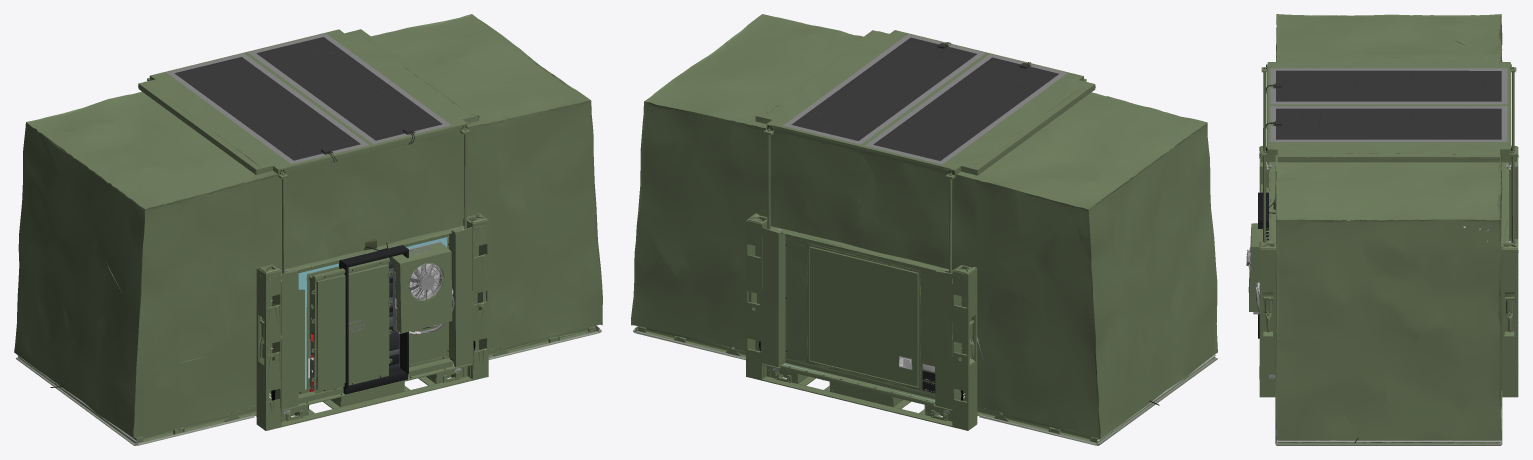
Rendered from trecc-open-fitted.glb.
The picture shows the model from 3 angles, left to right: view 1: azimuth 30°, elevation 25°; view 2: azimuth 150°, elevation 25°; view 3: azimuth 270°, elevation 25°; orthographic projection. The views are drawn at different scales.
Parts seen in each view (by area): view 1: Solid4340, TRECC_fitout; view 2: Solid4340; view 3: Solid4340, TRECC_fitout.
Part boxes in pixels (x1,y1,x2,y2): Solid4340: (14,14,602,445); TRECC_fitout: (50,239,408,394); Solid4340: (631,14,1217,445); Solid4340: (1246,14,1518,445); TRECC_fitout: (1258,192,1358,443).
Size of the model in its own units: 4.72 by 2.35 by 2.39.
